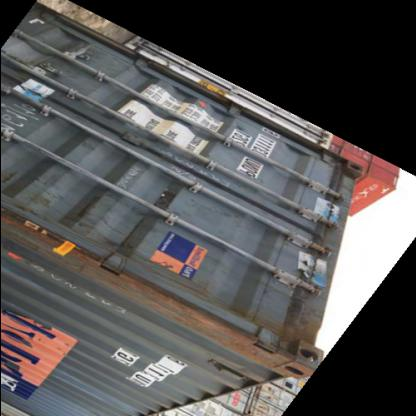Damage: (176, 288, 255, 340), (264, 310, 326, 374), (290, 248, 329, 286), (71, 193, 108, 230), (306, 196, 340, 223), (154, 184, 186, 212), (100, 235, 141, 253)
